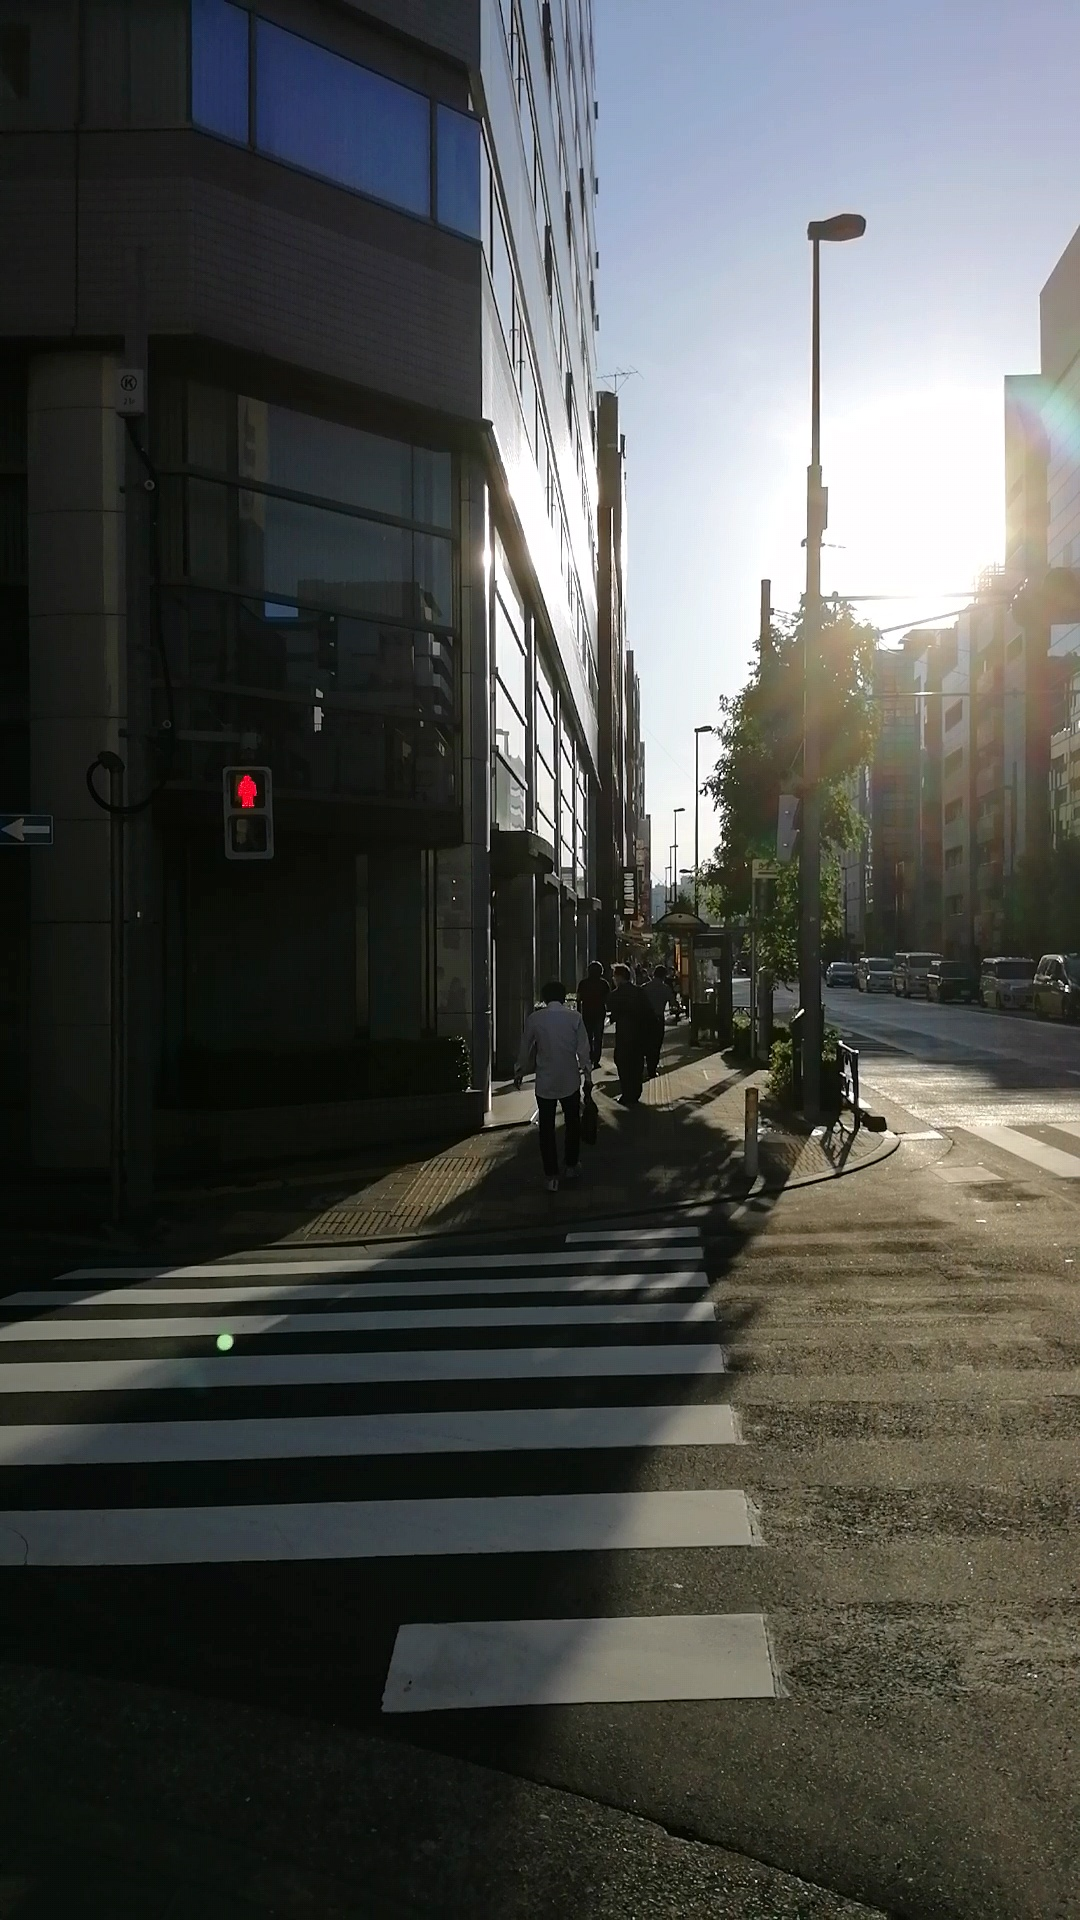red: (222, 765, 274, 864)
